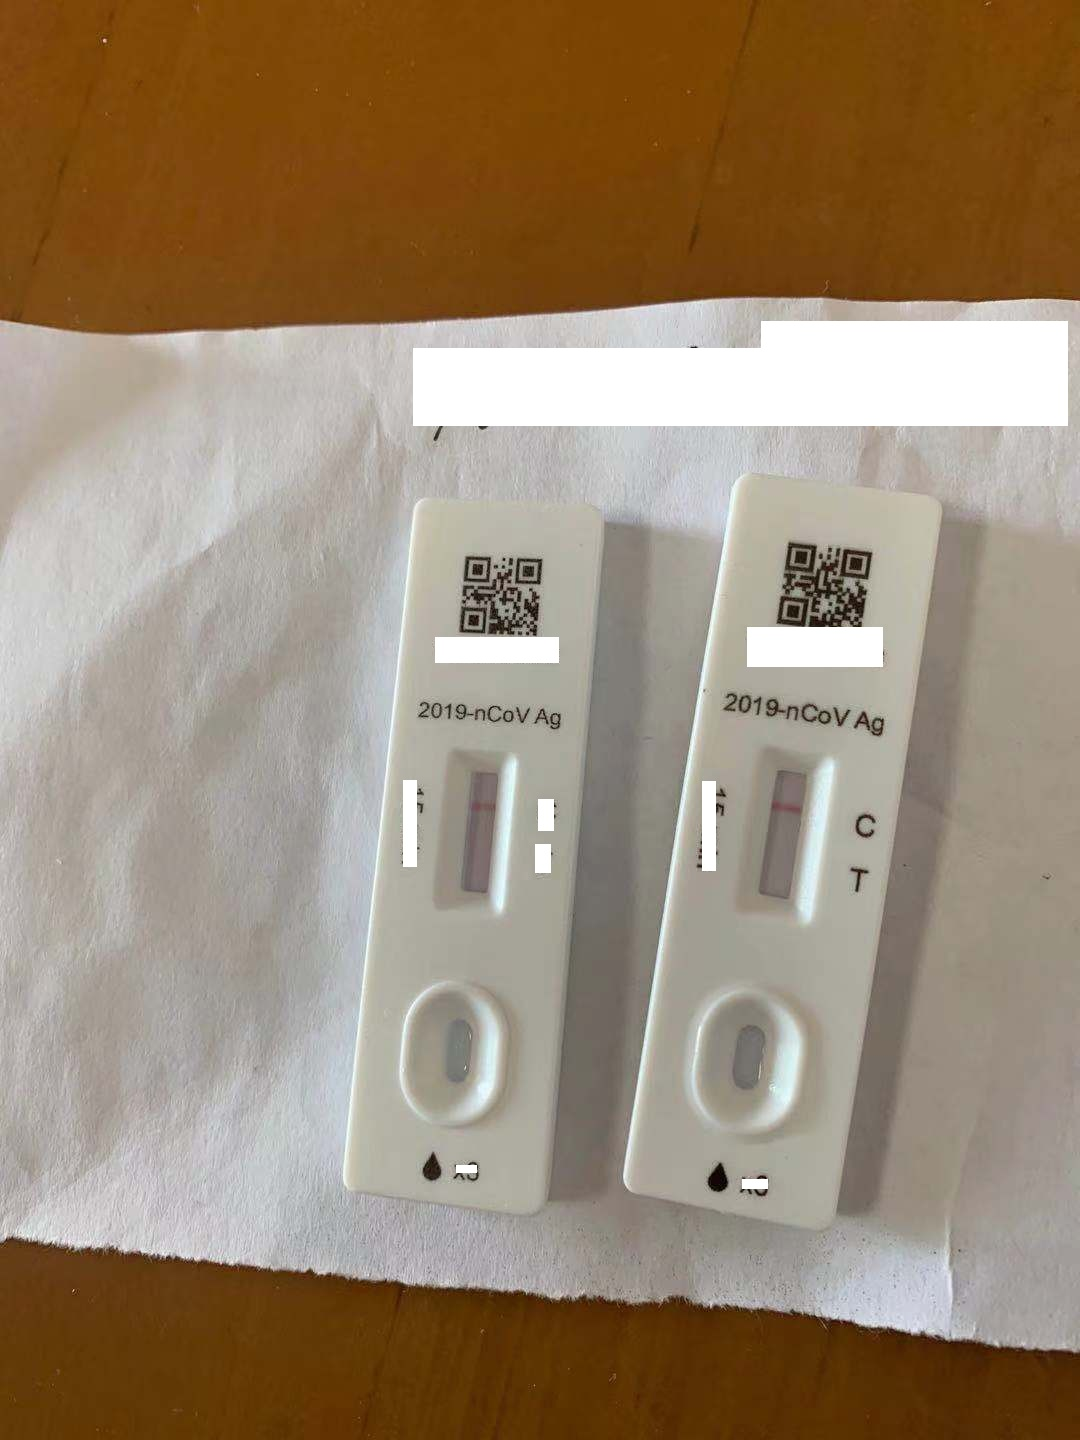negative: (745, 749, 828, 916), (442, 751, 517, 913)
